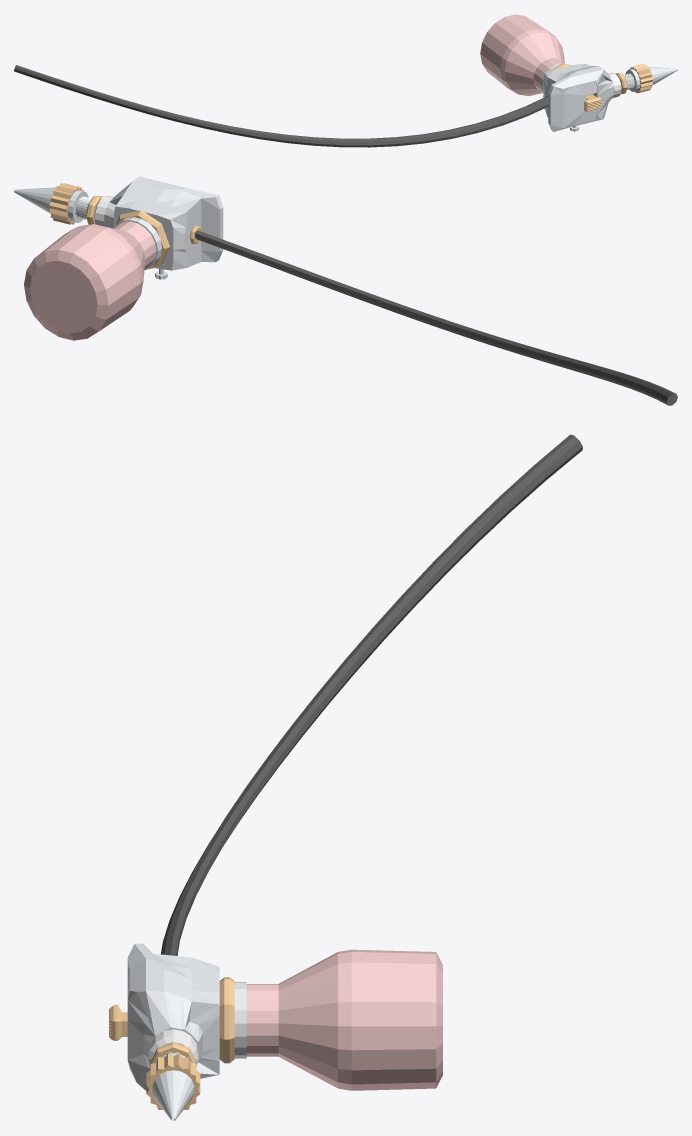
File: AIRBRUSH.glb
The picture shows the model from 3 angles, top to bottom: view 1: azimuth 30°, elevation 25°; view 2: azimuth 150°, elevation 25°; view 3: azimuth 270°, elevation 25°; orthographic projection. The views are drawn at different scales.
Visible parts, largest first — view 1: _0; view 2: _0; view 3: _0.
Boxes of the visible parts, <box> form: _0: <box>14,14,677,147</box>; _0: <box>14,176,677,405</box>; _0: <box>109,434,582,1121</box>.
Bounding box in the file's own units: 4.16 × 0.7292 × 1.51.
